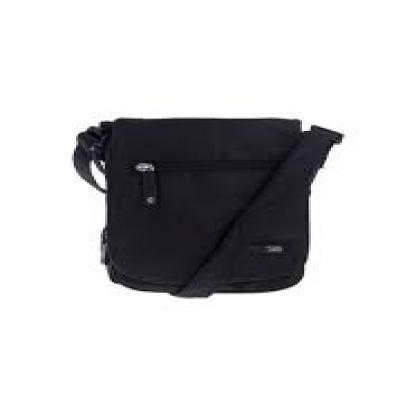morral: (60, 110, 356, 308)
